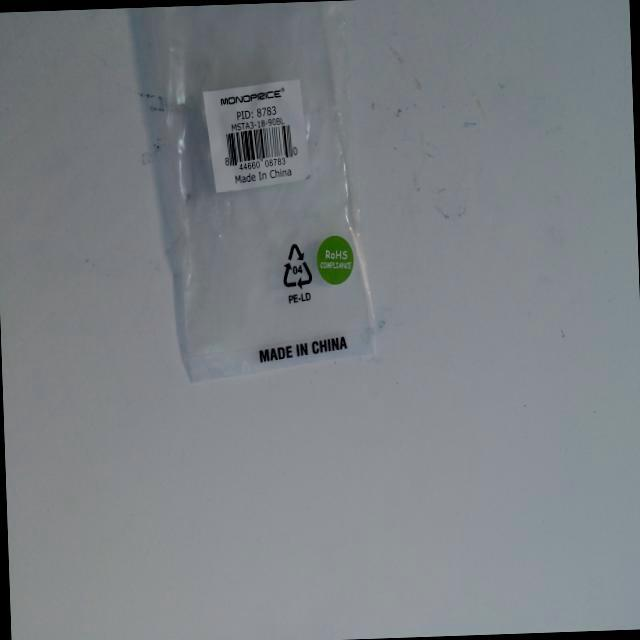plastic: (129, 0, 433, 459)
